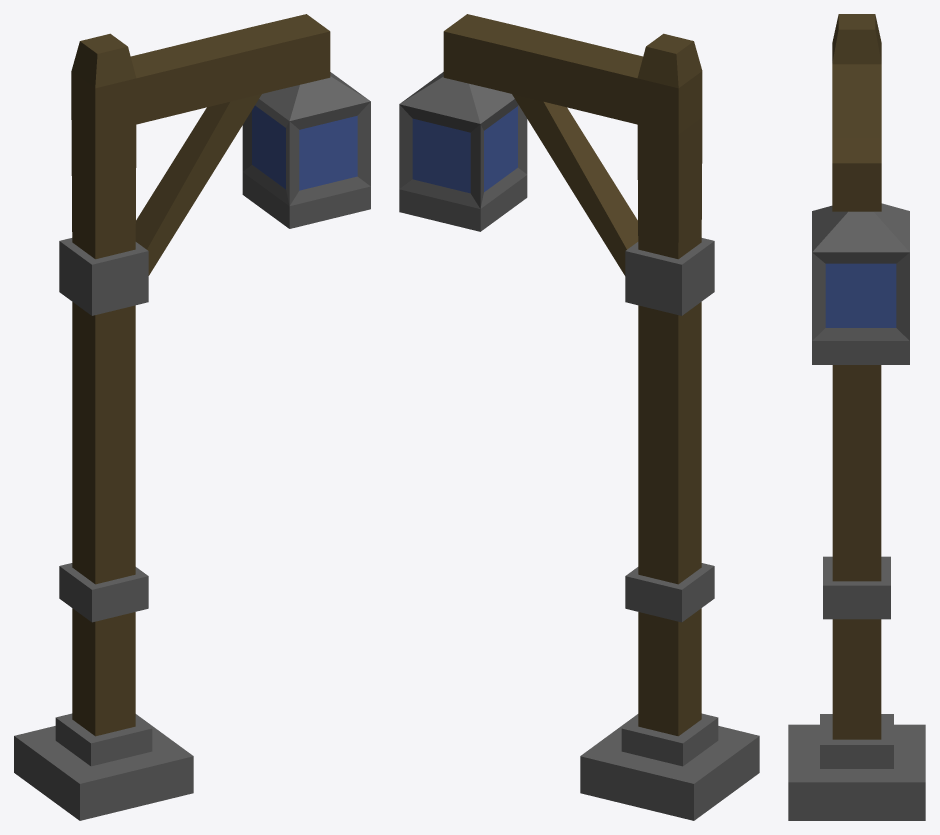
The model's file is posteluz.fbx.
The picture shows the model from 3 angles, left to right: view 1: azimuth 30°, elevation 25°; view 2: azimuth 150°, elevation 25°; view 3: azimuth 270°, elevation 25°; orthographic projection. The views are drawn at different scales.
Parts seen in each view (by area): view 1: Cube, Cube.001; view 2: Cube, Cube.001; view 3: Cube, Cube.001.
Part boxes in pixels (x1,y1,x2,y2): Cube: [14, 14, 330, 820]; Cube.001: [242, 72, 370, 228]; Cube: [443, 14, 759, 820]; Cube.001: [399, 72, 527, 231]; Cube: [788, 14, 925, 820]; Cube.001: [812, 203, 909, 364].
Bounding box in the file's own units: 531 × 1241 × 200.
